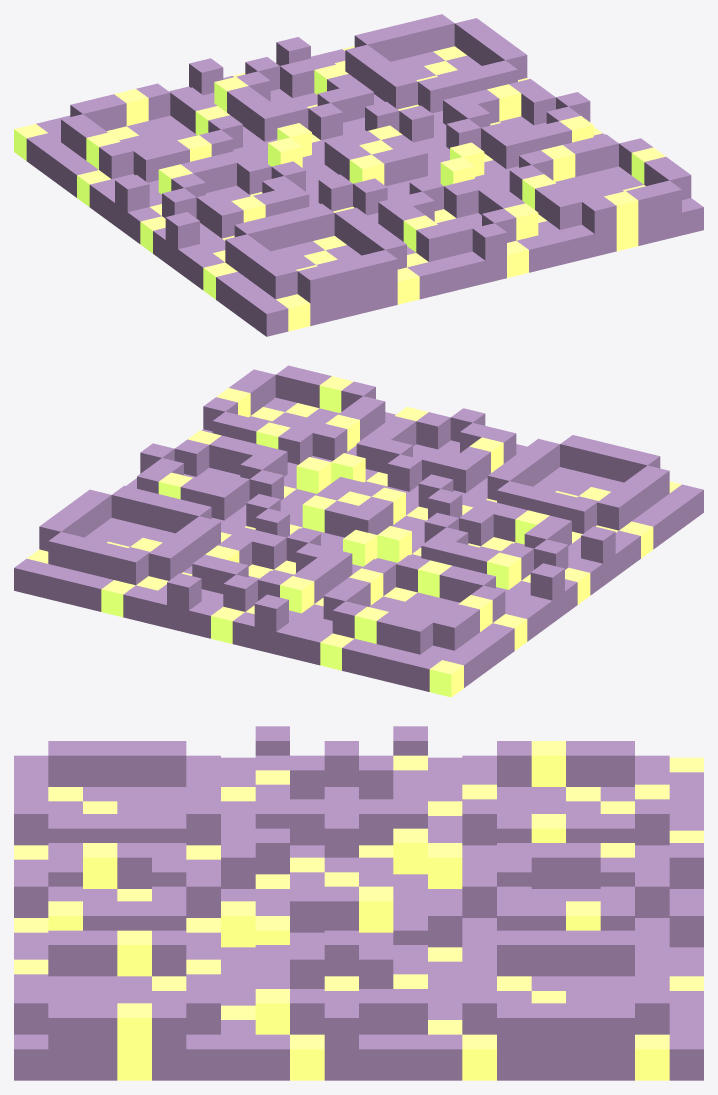
File: alien-biosphere-salt-tile-d8dff02f__22763.glb
3 renders of one model, top to bottom at view 1: azimuth 30°, elevation 25°; view 2: azimuth 150°, elevation 25°; view 3: azimuth 270°, elevation 25°, orthographic. The views are drawn at different scales.
Visible parts, largest first — view 1: salt-tile; view 2: salt-tile; view 3: salt-tile.
Boxes of the visible parts, <box> form: salt-tile: <box>14,14,703,336</box>; salt-tile: <box>14,365,703,697</box>; salt-tile: <box>14,726,703,1080</box>.
Bounding box in the file's own units: 4 × 0.3999 × 4.
